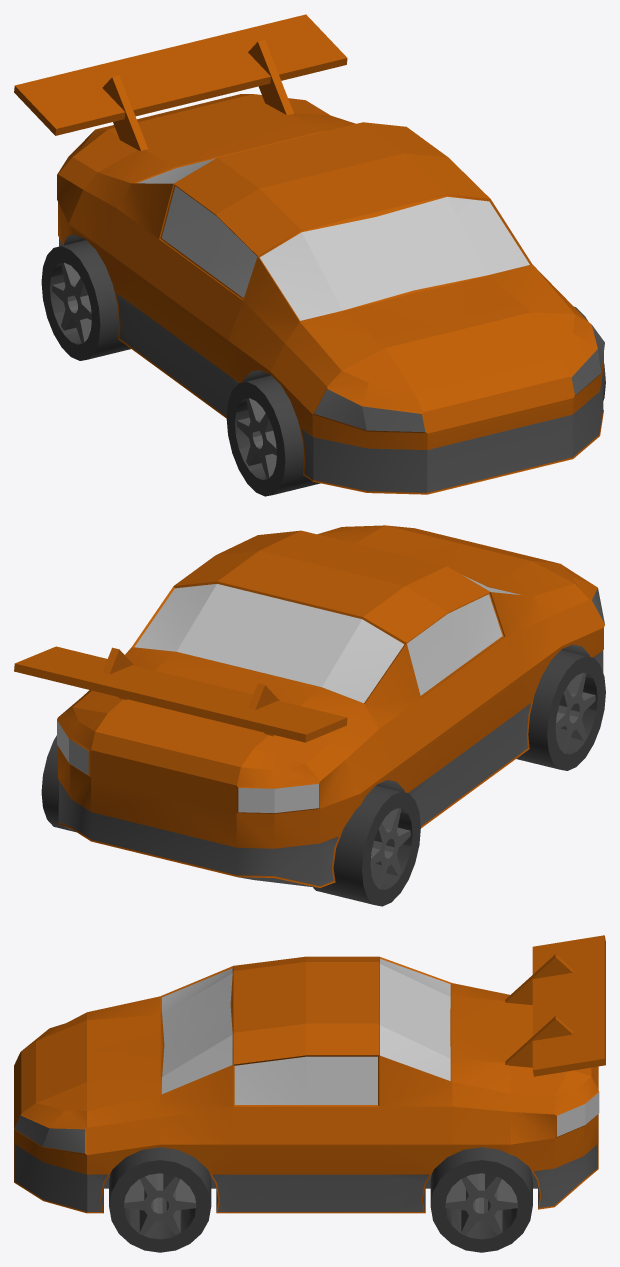
Rendered from CarRed2.fbx.
3 renders of one model, top to bottom at view 1: azimuth 30°, elevation 25°; view 2: azimuth 150°, elevation 25°; view 3: azimuth 270°, elevation 25°, orthographic. The views are drawn at different scales.
Visible parts, largest first — view 1: pCube172; view 2: pCube172; view 3: pCube172.
Boxes of the visible parts, box(x1,y1,x2,y2) form: pCube172: box(14, 14, 605, 496); pCube172: box(14, 525, 605, 906); pCube172: box(14, 935, 605, 1252).
Size of the model in its own units: 2.2 by 1.5 by 4.05.
